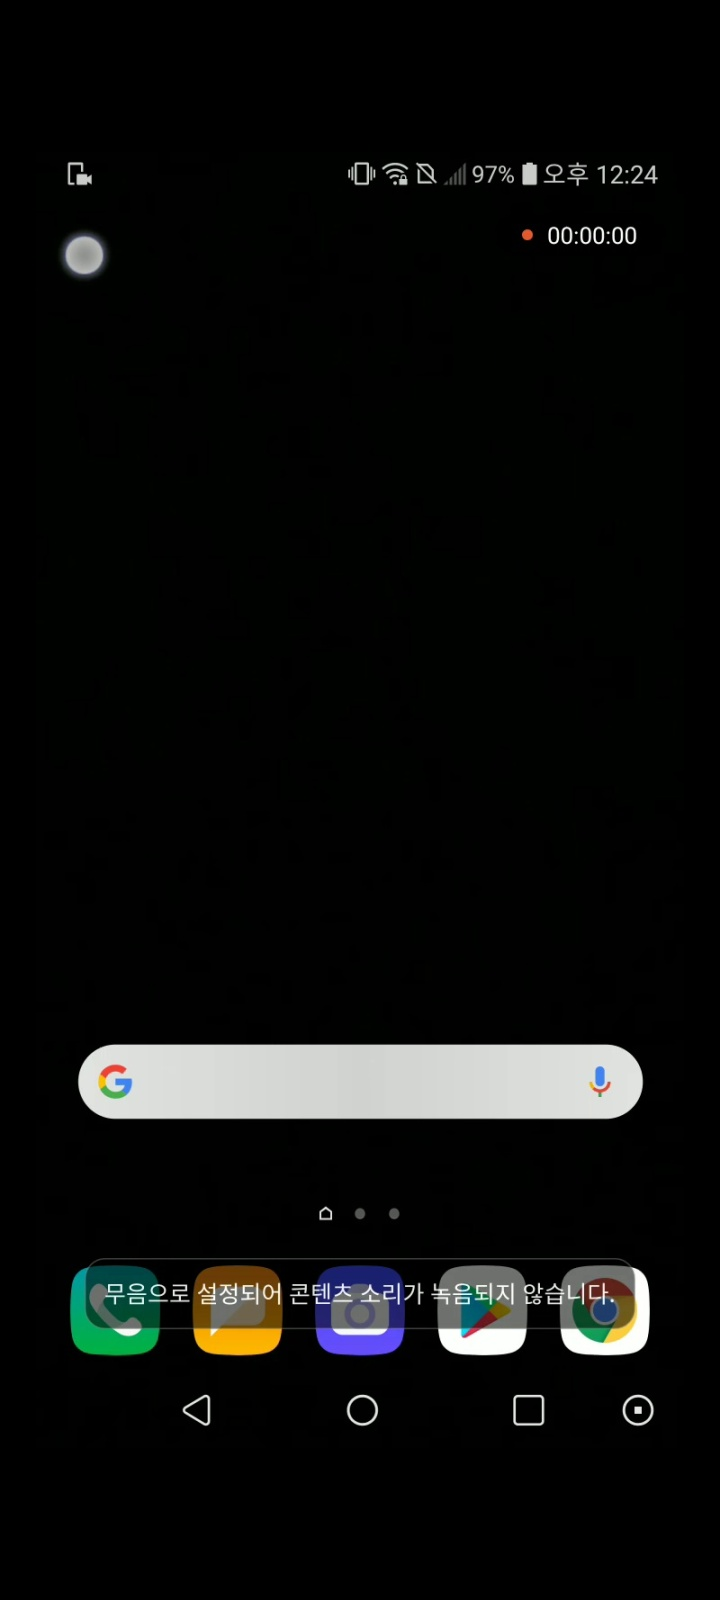Cursor: (62, 233, 107, 278)
